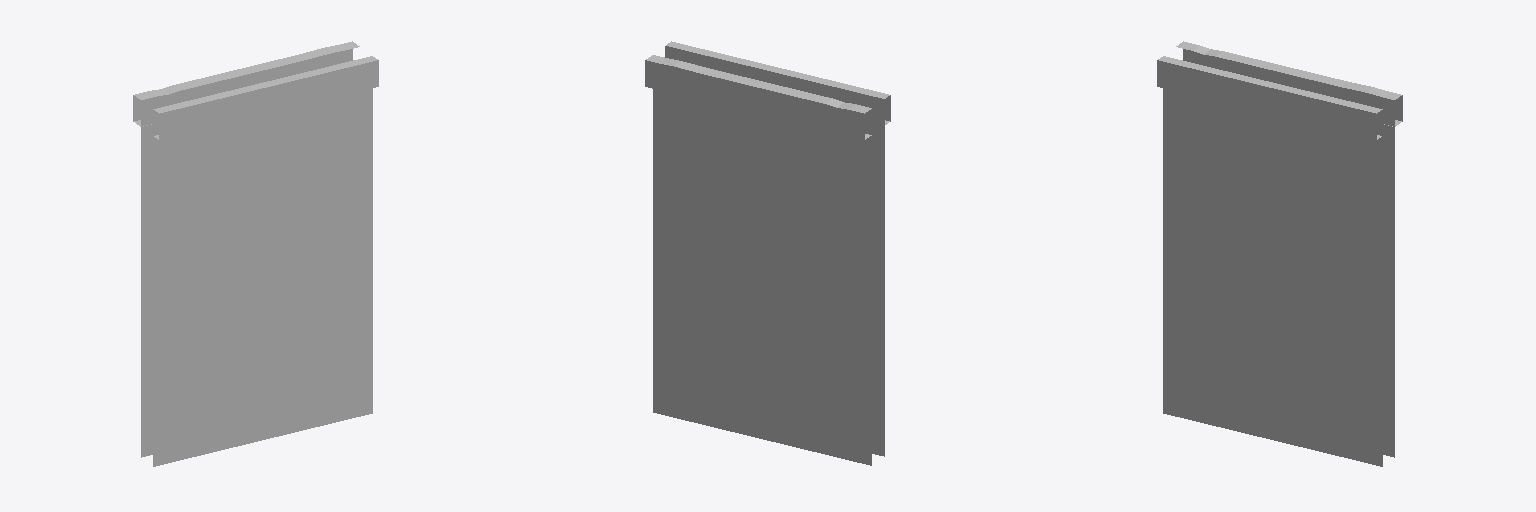
Rendered from Wall_UnevenBrick_Straight.obj.
3 views of the same model, side by side, from view 1: azimuth 30°, elevation 25°; view 2: azimuth 150°, elevation 25°; view 3: azimuth 330°, elevation 25° (orthographic).
Parts seen in each view (by area): view 1: Wall_UnevenBrick_Straight; view 2: Wall_UnevenBrick_Straight; view 3: Wall_UnevenBrick_Straight.
Boxes of the visible parts, <box> form: Wall_UnevenBrick_Straight: <box>133,41,378,466</box>; Wall_UnevenBrick_Straight: <box>645,41,890,465</box>; Wall_UnevenBrick_Straight: <box>1157,41,1402,466</box>.
Bounding box in the file's own units: 2 × 3.12 × 0.4065.